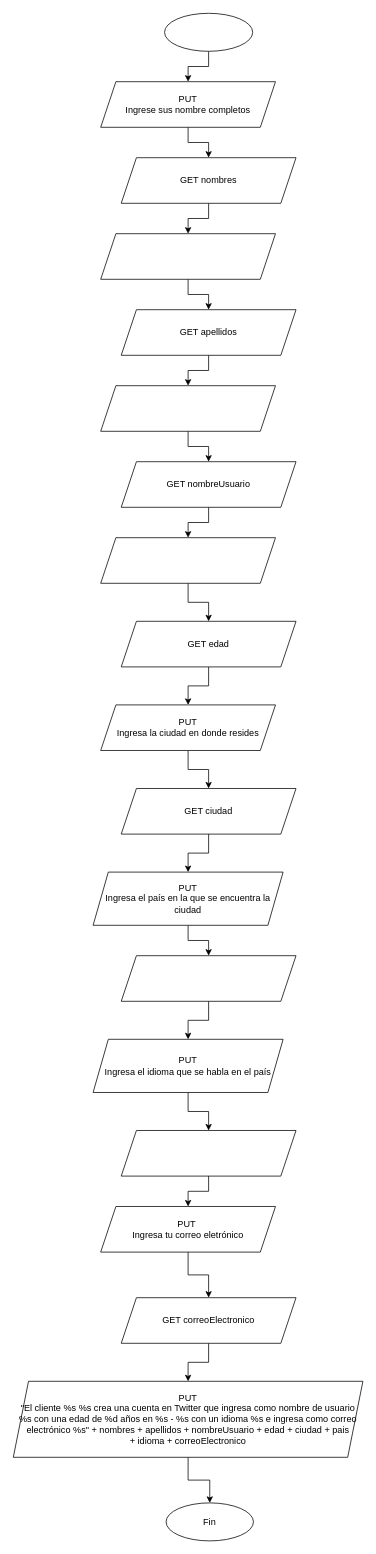
Some shapes in this 376 by 1554 pixel diagram are drawn without their labels. Each missing label, with the box of its shape:
GET idioma: (120, 1130, 296, 1176)
GET país: (120, 955, 296, 1001)
Inicio: (164, 13, 253, 51)
PUT Ingresa tu edad: (100, 537, 276, 583)
PUT Ingresa un nombre de usuario: (100, 385, 276, 431)
PUT Ingrese sus apellidos completos: (100, 233, 276, 279)
